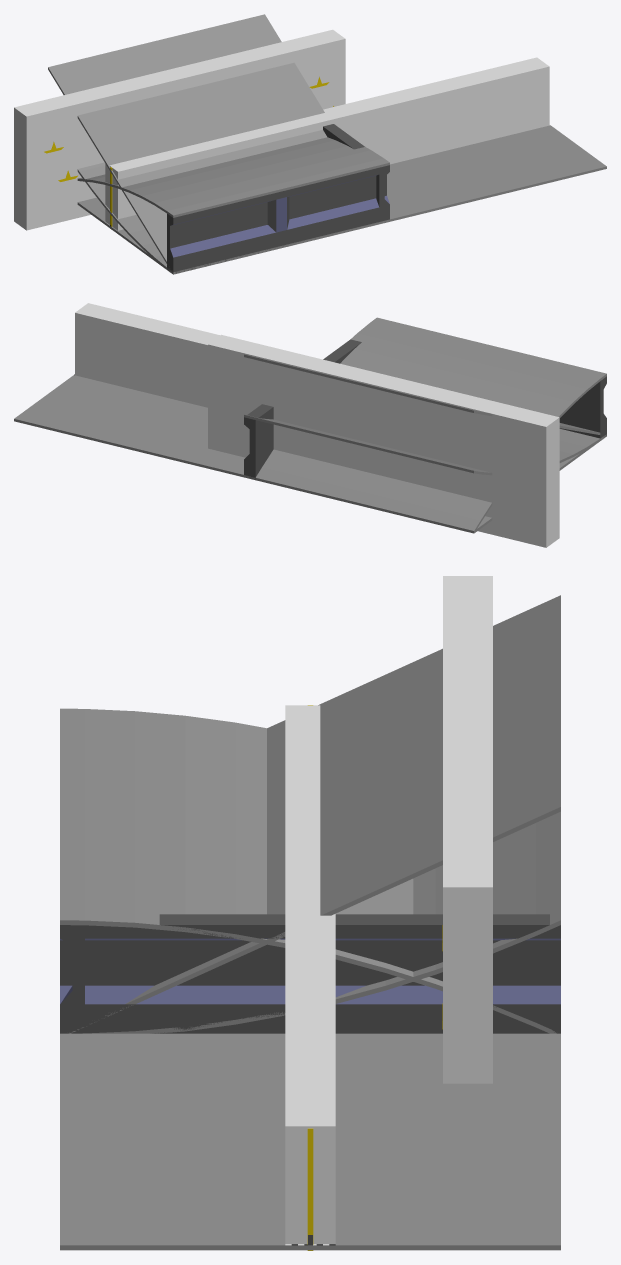
3 views of the same model, one above another, from view 1: azimuth 30°, elevation 25°; view 2: azimuth 150°, elevation 25°; view 3: azimuth 270°, elevation 25° (orthographic). The views are drawn at different scales.
Visible parts, largest first — view 1: PlaneSlope, PlaneFinishDetectorWide, PlaneFinishDetector, PlaneFinishWide, PlaneWall, PlaneSlopeDown, PlaneWallCorner, PlaneSlopeUp, HalfPlane, PlaneWallInnerCorner; view 2: PlaneFinishDetector, PlaneSlopeDown, PlaneFinishWide, PlaneFinishDetectorWide, PlaneWallCorner, PlaneSlopeUp, PlaneWall, PlaneSlope, Plane; view 3: PlaneFinishWide, PlaneSlope, PlaneSlopeDown, PlaneWallCorner, PlaneFinishDetector, PlaneFinishDetectorWide, PlaneSlopeUp, PlaneWall.
Part boxes in pixels (x1=…): PlaneSlope: x1=48, y1=14, x2=326, y2=273; PlaneFinishDetectorWide: x1=105, y1=57, x2=549, y2=230; PlaneFinishDetector: x1=14, y1=29, x2=345, y2=230; PlaneFinishWide: x1=77, y1=125, x2=606, y2=273; PlaneWall: x1=167, y1=165, x2=389, y2=274; PlaneSlopeDown: x1=77, y1=137, x2=389, y2=217; PlaneWallCorner: x1=289, y1=124, x2=378, y2=218; PlaneSlopeUp: x1=77, y1=162, x2=171, y2=272; HalfPlane: x1=77, y1=197, x2=379, y2=274; PlaneWallInnerCorner: x1=376, y1=165, x2=389, y2=221; PlaneFinishDetector: x1=208, y1=334, x2=559, y2=547; PlaneSlopeDown: x1=256, y1=317, x2=606, y2=531; PlaneFinishWide: x1=14, y1=374, x2=606, y2=532; PlaneFinishDetectorWide: x1=75, y1=303, x2=219, y2=407; PlaneWallCorner: x1=244, y1=339, x2=600, y2=479; PlaneSlopeUp: x1=244, y1=414, x2=606, y2=475; PlaneWall: x1=559, y1=376, x2=606, y2=438; PlaneSlope: x1=244, y1=354, x2=600, y2=434; Plane: x1=244, y1=463, x2=562, y2=533; PlaneFinishWide: x1=60, y1=1033, x2=560, y2=1250; PlaneSlope: x1=69, y1=595, x2=560, y2=1033; PlaneSlopeDown: x1=60, y1=708, x2=556, y2=1033; PlaneWallCorner: x1=60, y1=914, x2=560, y2=1033; PlaneFinishDetector: x1=443, y1=576, x2=492, y2=1083; PlaneFinishDetectorWide: x1=285, y1=705, x2=335, y2=1244; PlaneSlopeUp: x1=83, y1=811, x2=560, y2=1033; PlaneWall: x1=60, y1=925, x2=84, y2=1033.
Bounding box in the file's own units: 44.71 × 11.4 × 20.
